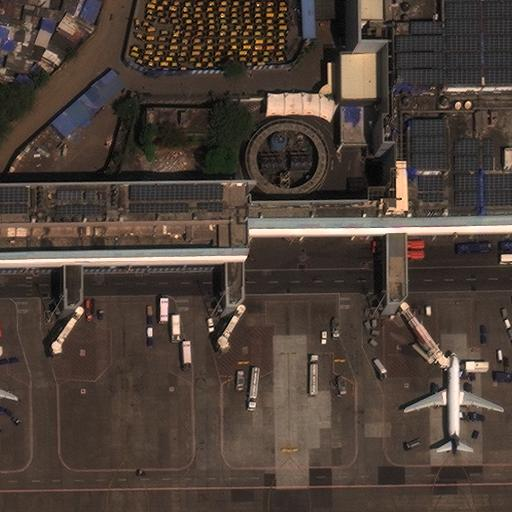Medium Civil Transport: (405, 353, 503, 449)
